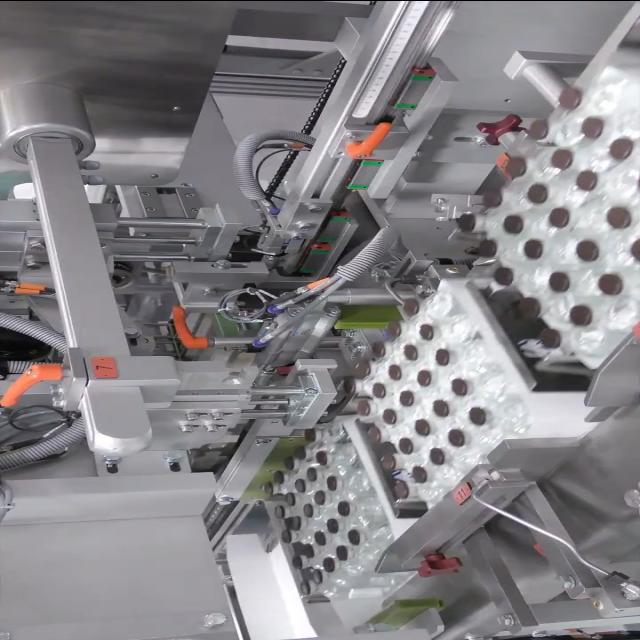vial: (598, 269, 623, 291), (576, 238, 602, 258), (550, 268, 571, 290), (558, 88, 580, 108), (520, 296, 542, 316), (504, 214, 527, 231), (406, 297, 424, 316), (522, 183, 542, 200), (576, 171, 597, 187), (458, 212, 476, 230), (551, 206, 569, 224), (541, 329, 559, 347), (477, 238, 497, 254), (357, 400, 375, 416), (585, 118, 601, 136), (552, 149, 570, 165), (521, 238, 537, 256), (568, 309, 586, 325), (420, 321, 436, 337), (610, 140, 626, 156), (510, 158, 526, 174), (434, 348, 452, 362), (610, 208, 624, 226), (447, 429, 462, 445), (530, 121, 544, 138), (470, 406, 483, 424), (382, 408, 398, 422), (400, 436, 414, 452), (418, 418, 432, 434), (497, 268, 511, 284), (344, 379, 360, 392), (373, 340, 387, 354), (358, 360, 372, 374), (415, 370, 429, 384), (454, 378, 466, 394), (347, 530, 360, 544), (631, 236, 640, 256), (369, 424, 380, 440), (434, 400, 446, 414), (488, 190, 500, 204), (326, 477, 338, 491), (326, 517, 338, 531), (398, 390, 411, 402), (314, 491, 326, 504), (292, 515, 302, 530), (430, 451, 442, 463), (336, 502, 348, 514), (374, 382, 384, 396), (304, 428, 314, 442), (296, 477, 306, 491), (291, 554, 301, 568), (337, 545, 347, 559), (300, 580, 310, 594), (272, 471, 284, 482), (306, 467, 317, 479), (386, 367, 399, 377), (314, 530, 324, 543), (405, 347, 416, 358), (381, 454, 391, 466), (397, 484, 407, 496), (284, 456, 294, 468), (304, 503, 314, 515), (322, 558, 332, 570), (264, 482, 274, 493), (318, 451, 328, 462), (282, 529, 292, 540), (389, 324, 398, 336), (312, 568, 320, 581), (305, 544, 313, 556), (294, 448, 303, 458), (414, 469, 422, 479), (276, 506, 284, 516), (286, 494, 294, 503)
